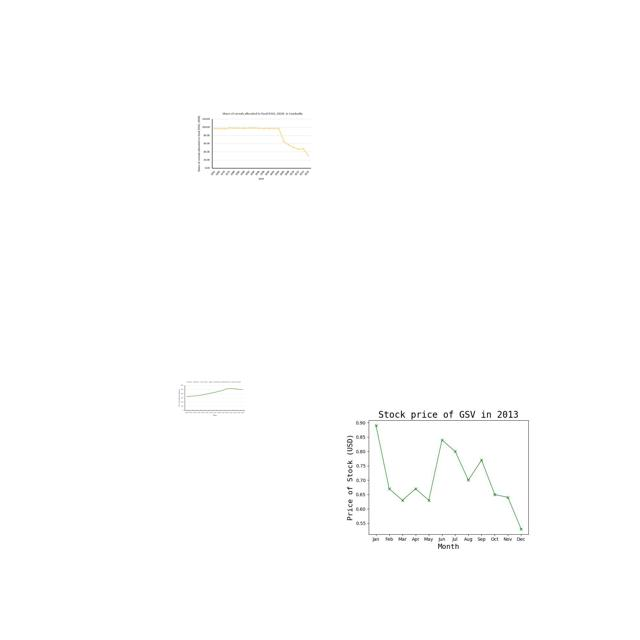Graph: (343, 399, 549, 554), (195, 110, 313, 181), (177, 380, 246, 417)
